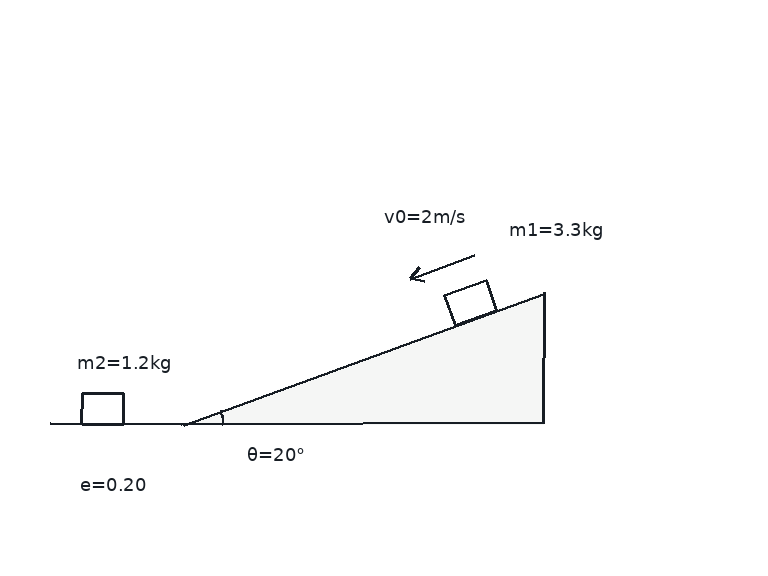block: (442, 278, 498, 327), (79, 391, 125, 426)
ramp: (181, 291, 546, 426)
